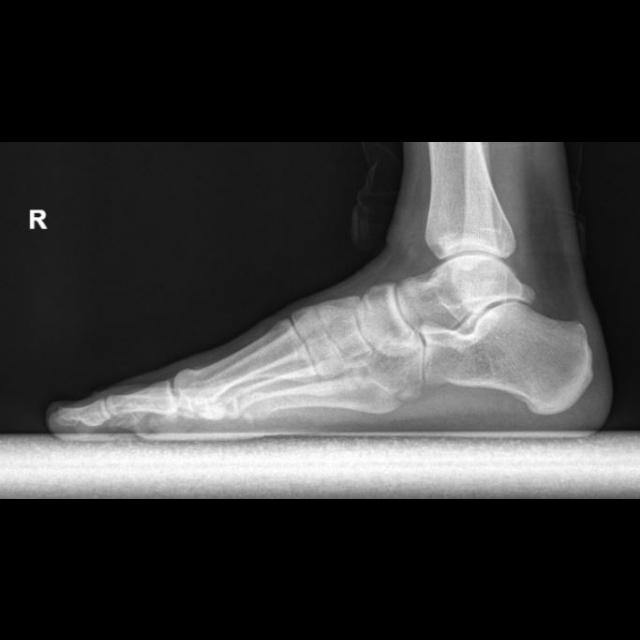a: (422, 302, 594, 413)
b: (354, 284, 424, 357)
c: (175, 320, 319, 403)
